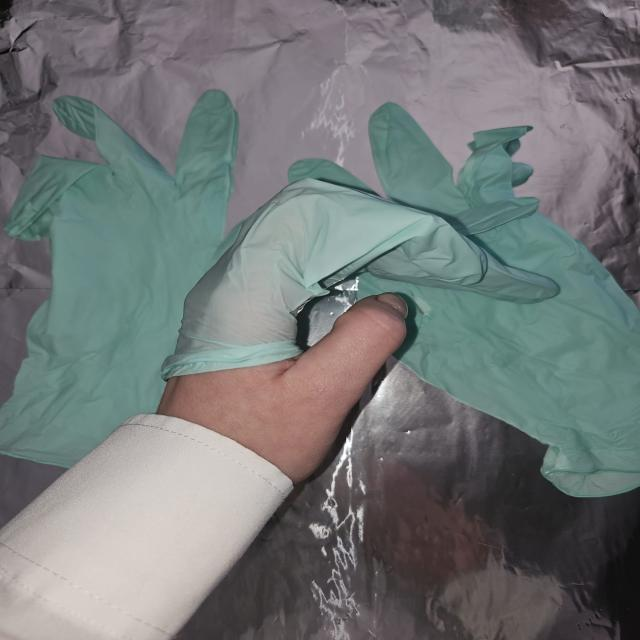glove_partial: (158, 175, 560, 502)
